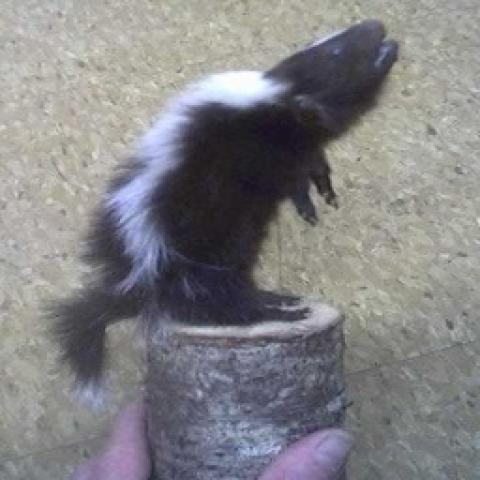small_animal: (45, 15, 401, 407)
